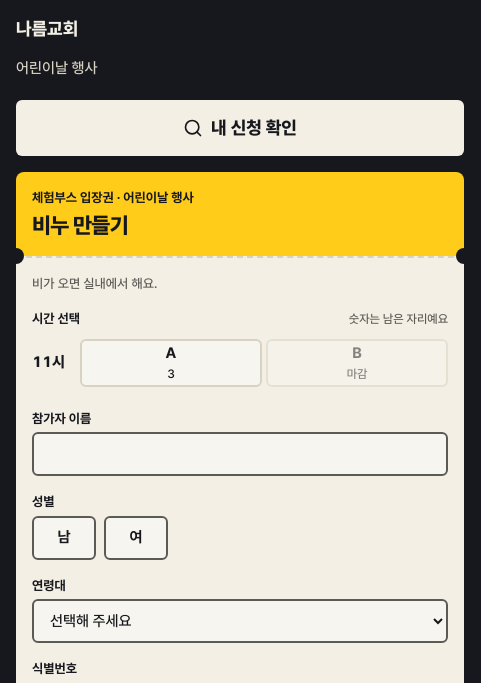
Test case: ReservePage › 성공하면 정규화된 값으로 신청하고 보관한 뒤 확인 화면으로 간다
Click the radio button named "11시 A타임" at (171,363), box [80,339,262,387]
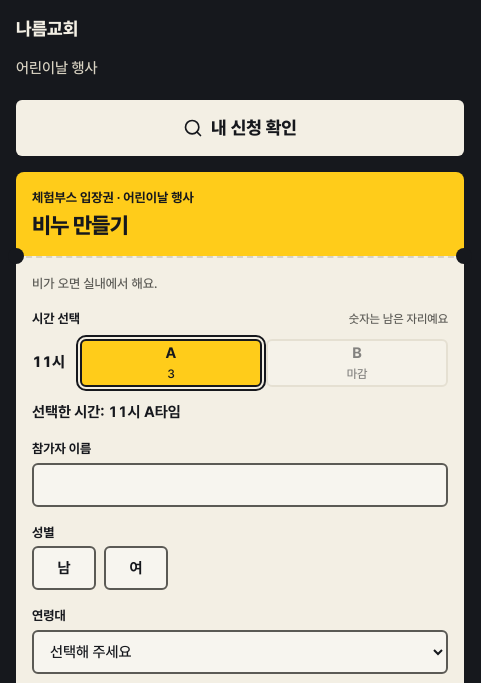
Click the radio button labelled "남" at (64,568), box [32,546,96,590]
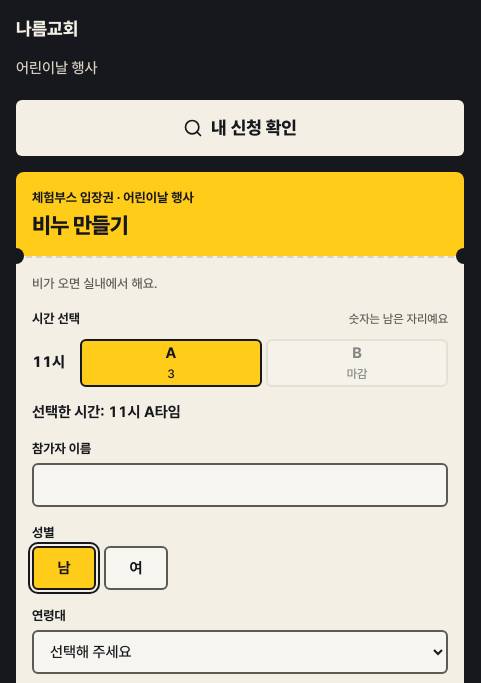
Select "9~13세" in the dropdown labelled "연령대" at (240,652), box [32,630,448,674]
Type " 홍길동 " into the field labelled "참가자 이름" at (240,485), box [32,463,448,507]
(page scrolled)
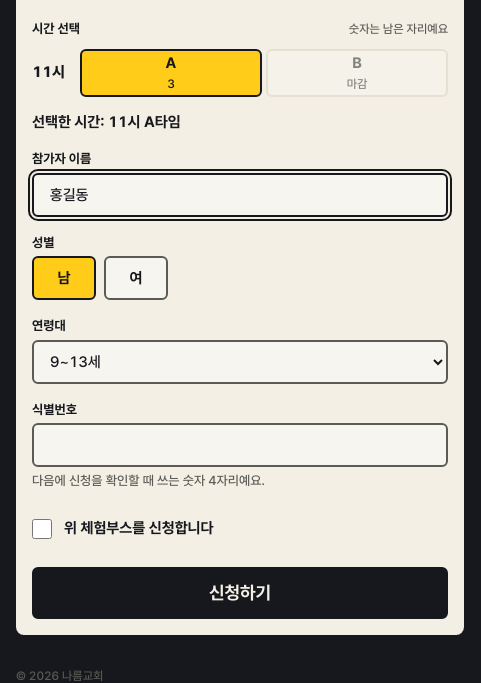
Type "12-34" into the field labelled "식별번호" at (240,445), box [32,423,448,467]
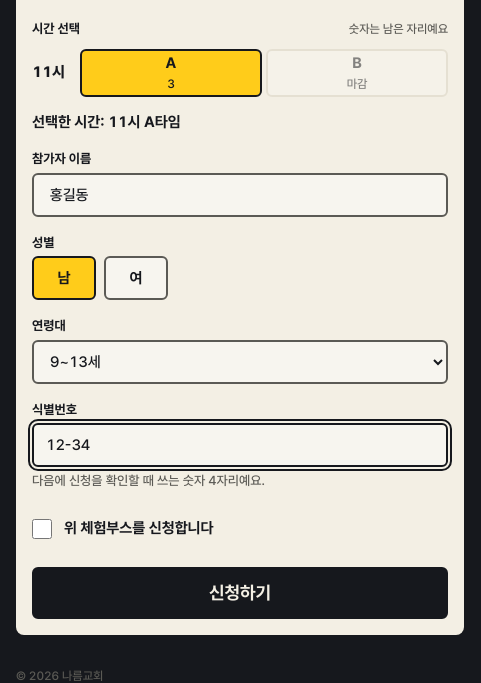
Click the checkbox labelled "위 체험부스를 신청합니다" at (42,529), box [32,519,52,539]
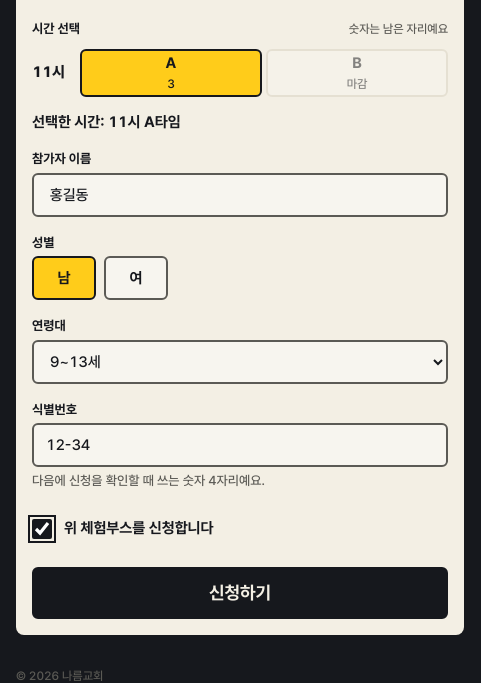
Click the button "신청하기" at (240,593), box [32,567,448,619]
(page scrolled)
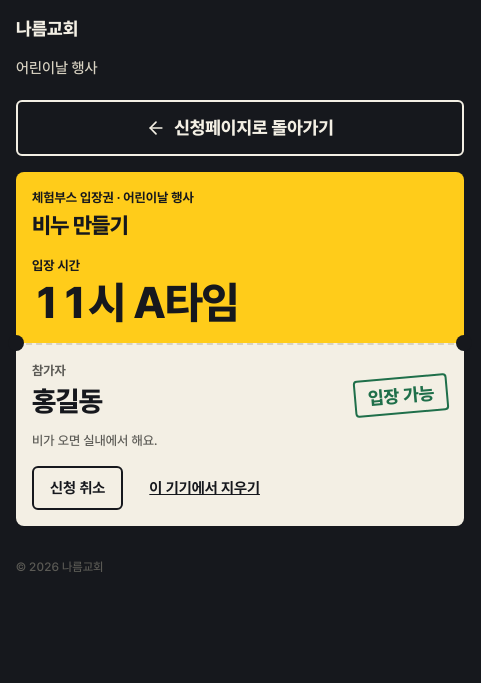
Now the text "입장 가능" is shown, box [352,373,449,419]
